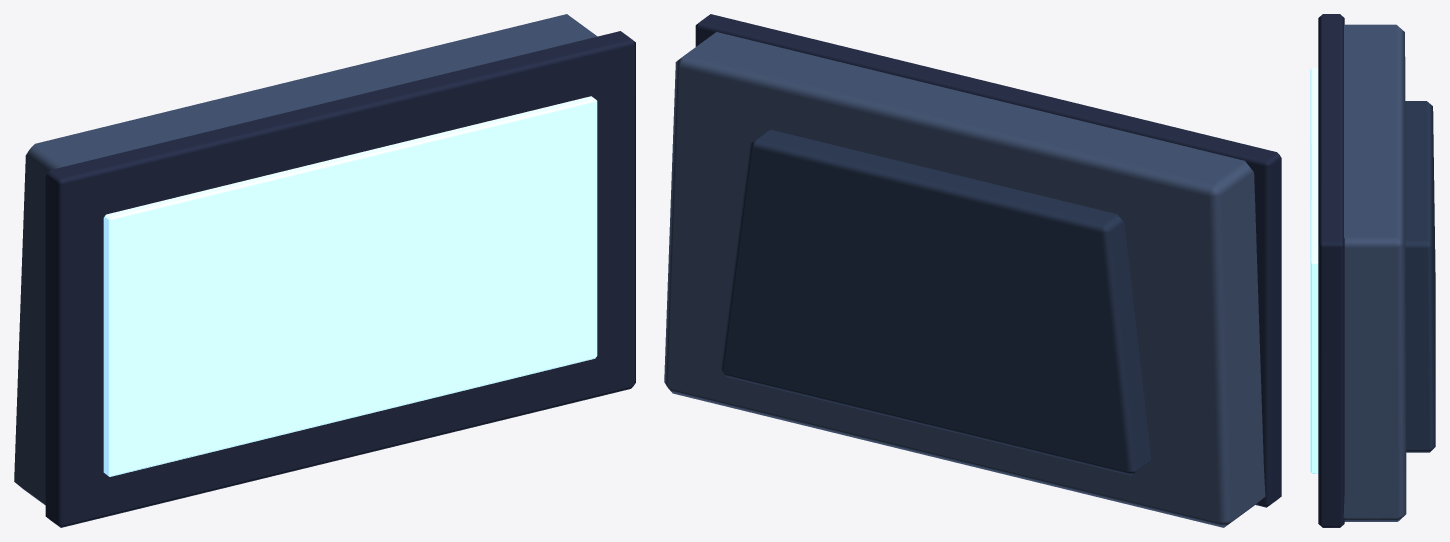
The model's file is control_monitor.glb.
3 views of the same model, side by side, from view 1: azimuth 30°, elevation 25°; view 2: azimuth 150°, elevation 25°; view 3: azimuth 270°, elevation 25° (orthographic). The views are drawn at different scales.
Parts seen in each view (by area): view 1: control_monitor; view 2: control_monitor; view 3: control_monitor.
Boxes of the visible parts, left/top/right/bottom form: control_monitor: left=14, top=14, right=635, bottom=527; control_monitor: left=664, top=14, right=1281, bottom=527; control_monitor: left=1310, top=14, right=1435, bottom=527.
Bounding box in the file's own units: 1.68 × 0.97 × 0.3848.
